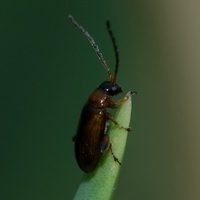insect: (68, 15, 130, 172)
